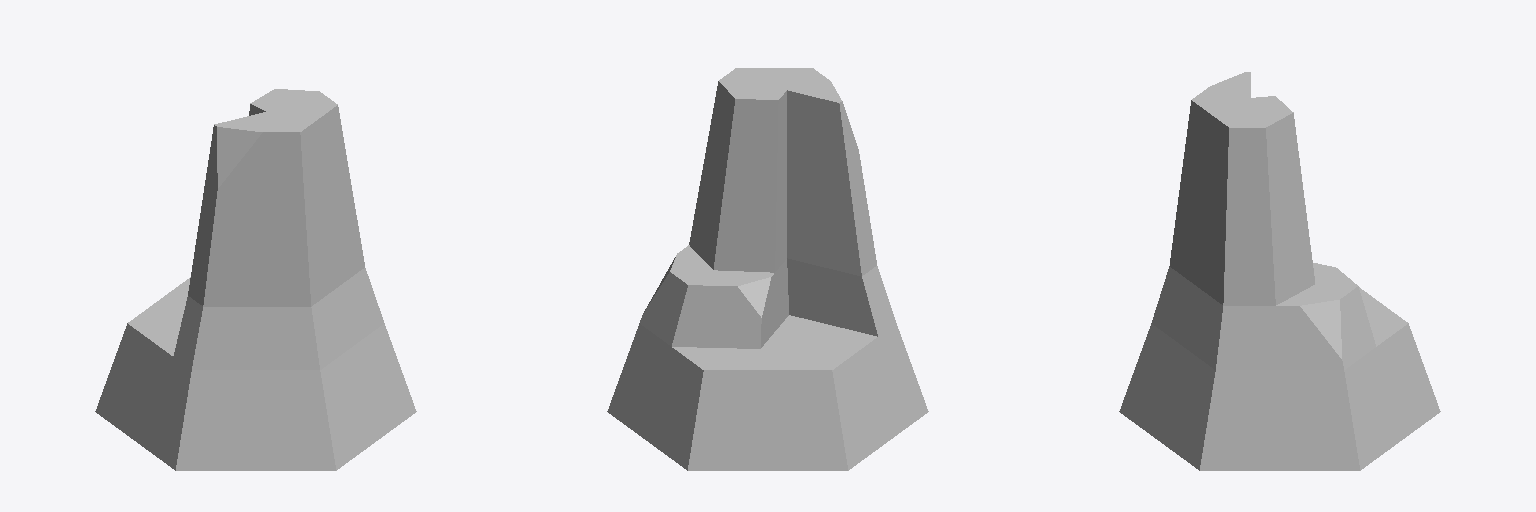
File: stone_tall8.obj
3 renders of one model, left to right at view 1: azimuth 30°, elevation 25°; view 2: azimuth 150°, elevation 25°; view 3: azimuth 270°, elevation 25°, orthographic.
Visible parts, largest first — view 1: stone_tall8; view 2: stone_tall8; view 3: stone_tall8.
Boxes of the visible parts, x1,y1,x2,y2 form: stone_tall8: [95, 89, 416, 470]; stone_tall8: [607, 68, 928, 470]; stone_tall8: [1119, 72, 1440, 470].
Bounding box in the file's own units: 5.75 × 7.11 × 6.64.